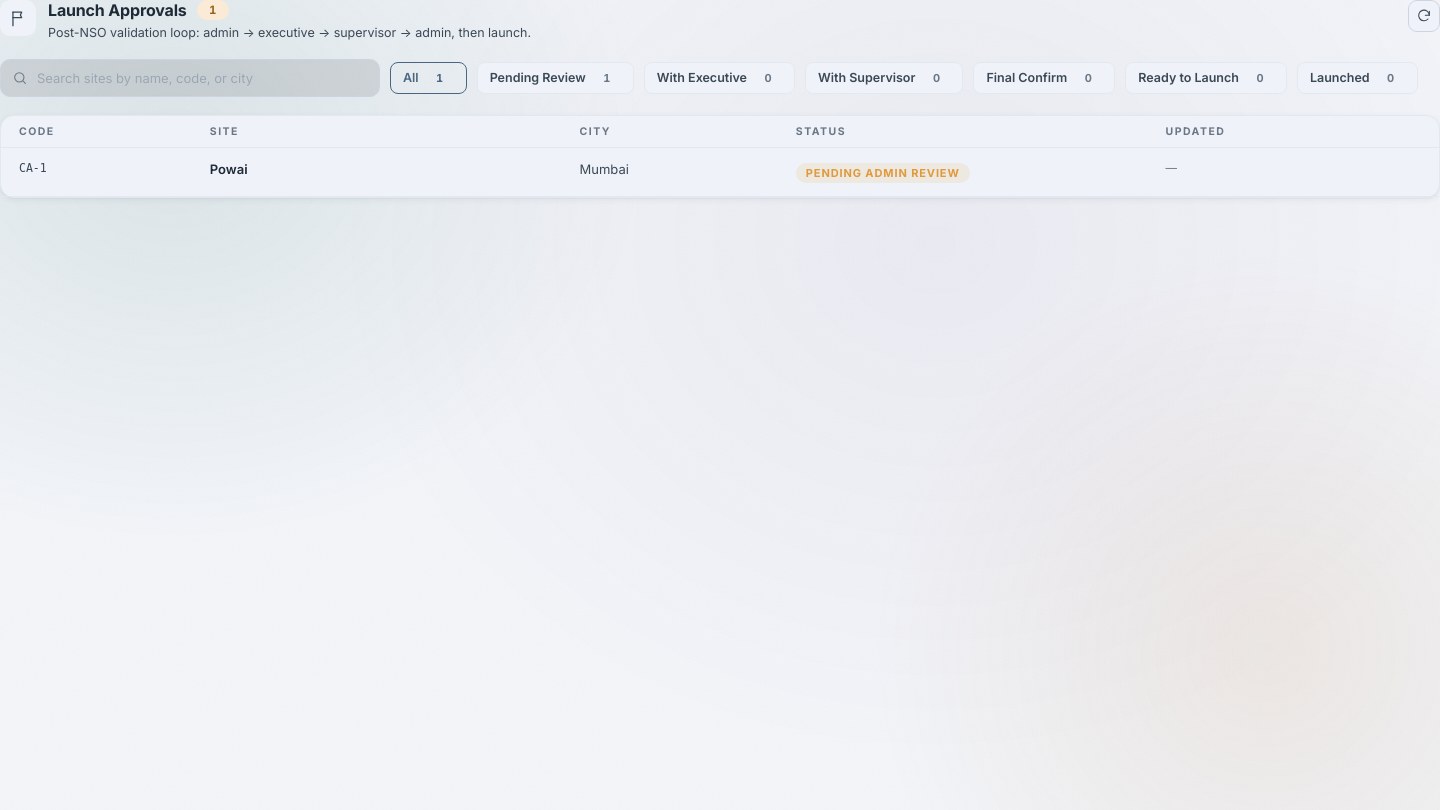
Test: LaunchApprovalTab — commercial terms › summarises the STAGED values, not the canonical details copy
Step 1. Click the text "Powai" → (229, 169), box [210,161,248,177]
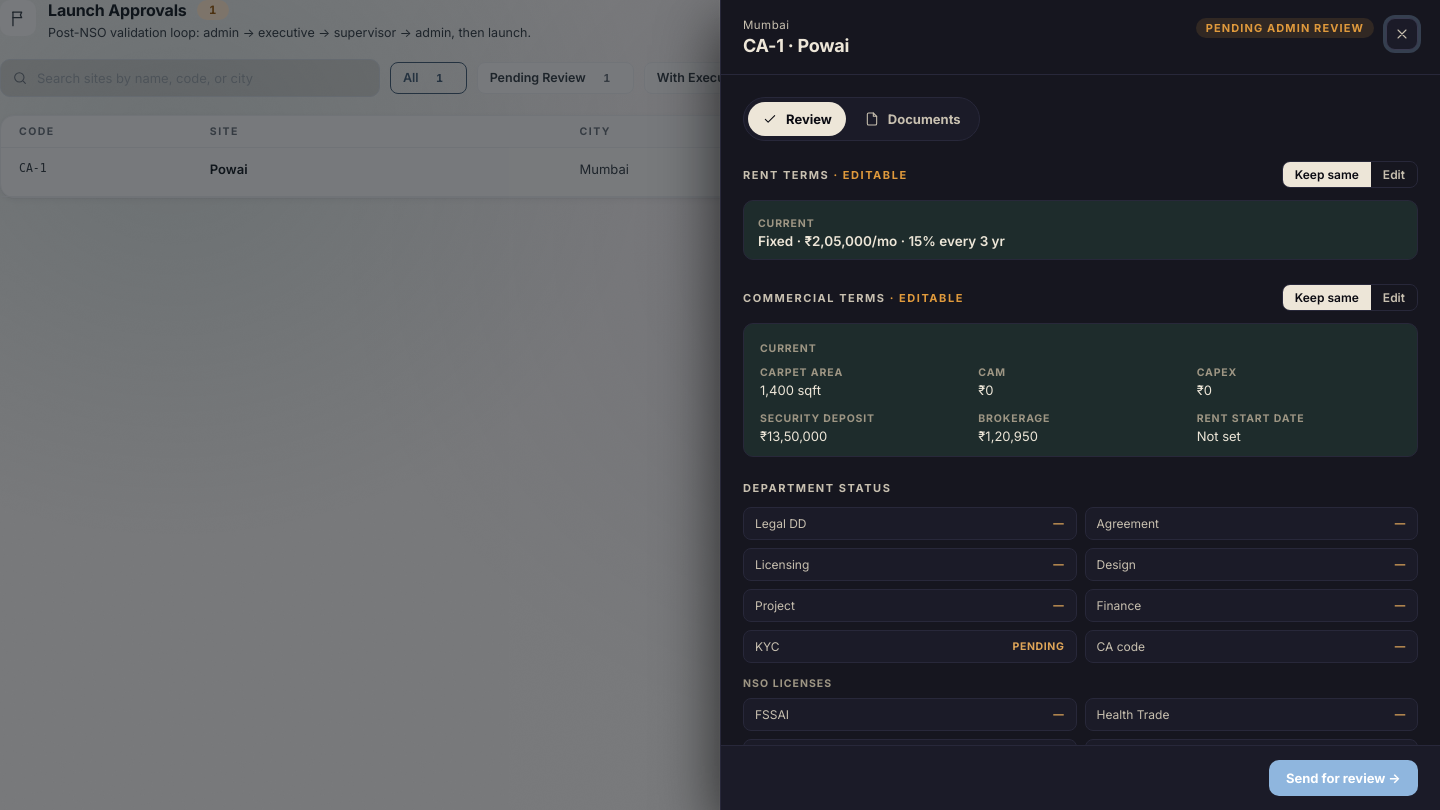
Check: the text "1,400 sqft" is shown, box [760,382,821,398]
